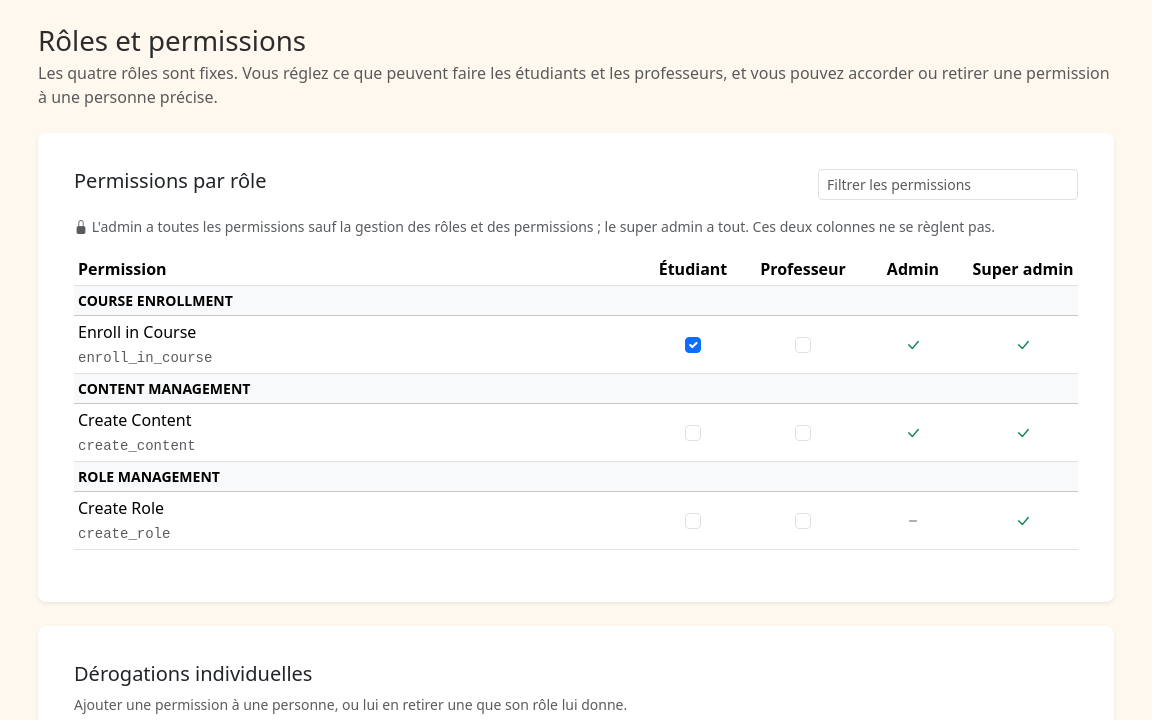
Test: RolesPermissionsPage › shows the server refusal instead of failing silently
Click the checkbox named "Create Content pour Étudiant".
click(693, 433)  # box [685,425,701,441]
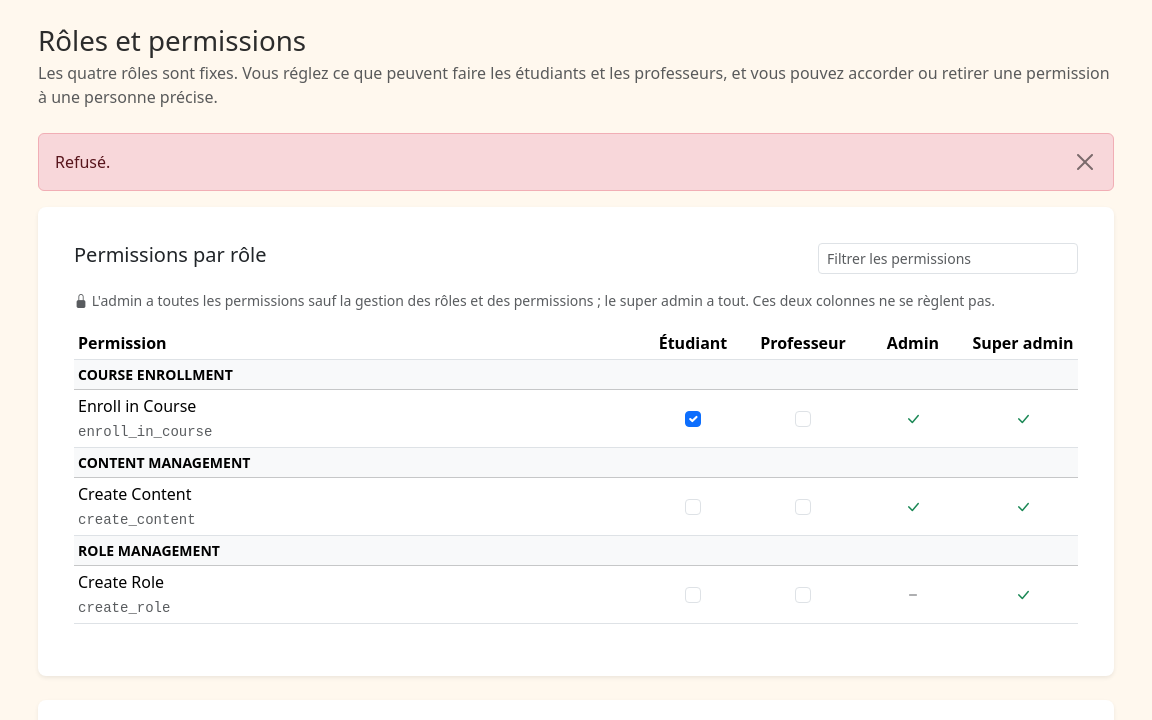
Check: the message with class "alert-danger" reads "Refusé.", box [55,151,110,173]
